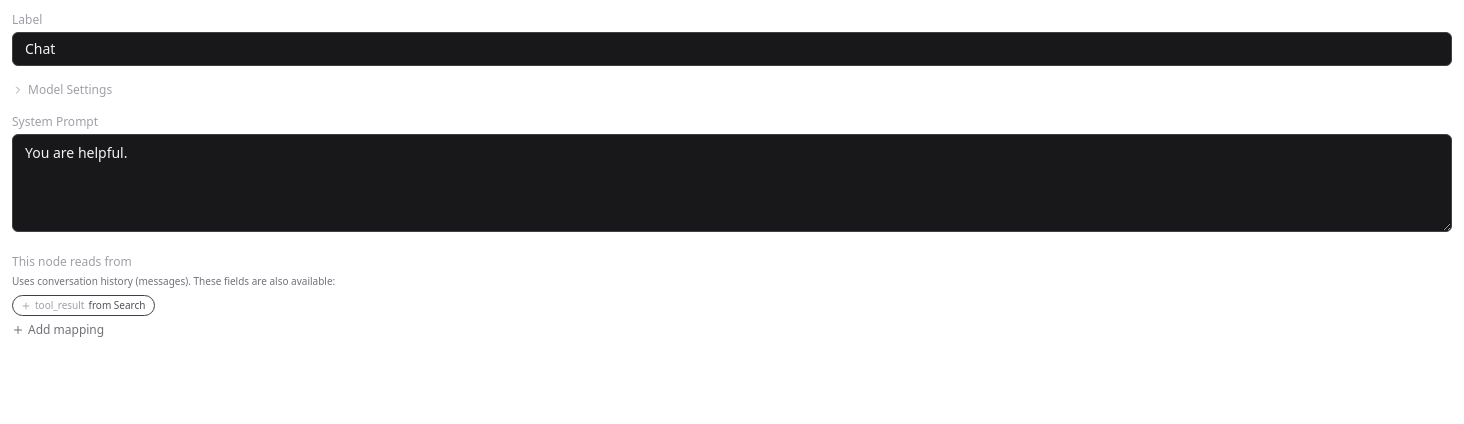
it: LLMNodeConfig › clicking suggestion creates a persisted mapping row
This screenshot has width=1464, height=424.
Click the button "tool_result" at point(83, 306), box [12,295,154,316]
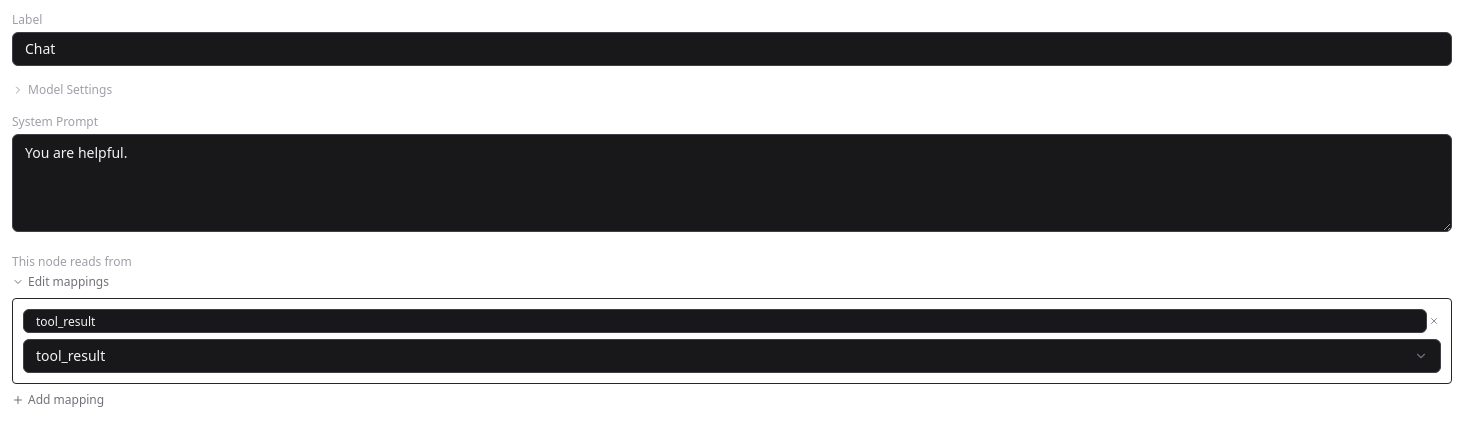
Expected: the field with placeholder "param_name" is shown, [23,309,1427,333]
